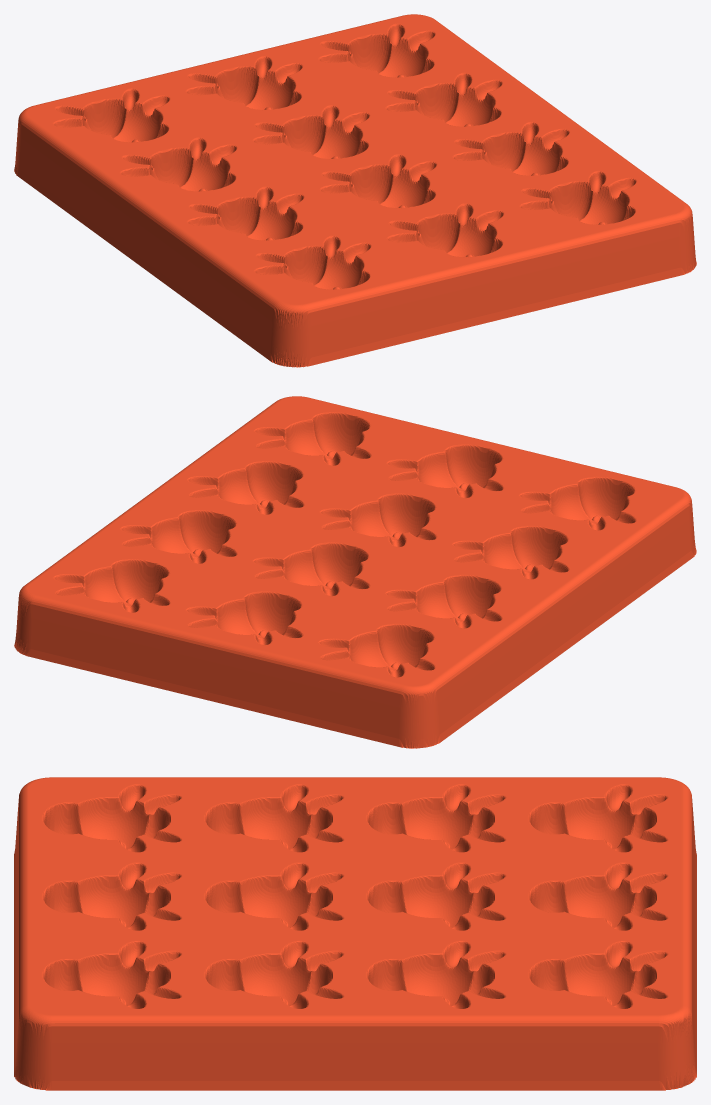
File: mold.glb
3 views of the same model, one above another, from view 1: azimuth 30°, elevation 25°; view 2: azimuth 150°, elevation 25°; view 3: azimuth 270°, elevation 25° (orthographic). The views are drawn at different scales.
Parts seen in each view (by area): view 1: geometry_0; view 2: geometry_0; view 3: geometry_0.
Boxes of the visible parts, <box> form: geometry_0: <box>14,14,696,367</box>; geometry_0: <box>14,396,696,748</box>; geometry_0: <box>14,777,696,1090</box>.
Bounding box in the file's own units: 0.141 × 0.0182 × 0.1631.
